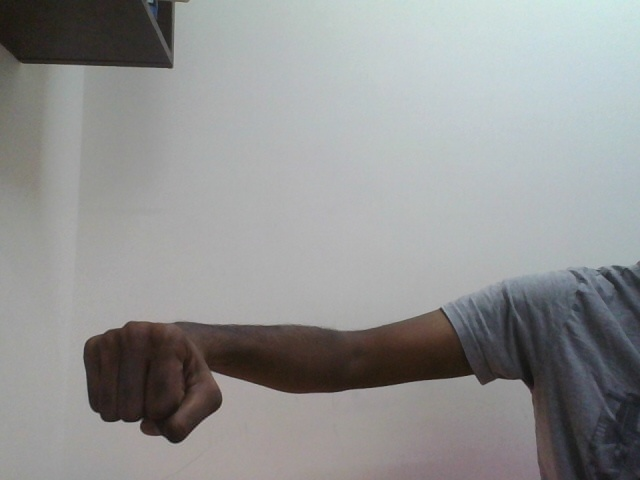Yes: (83, 322, 223, 444)
